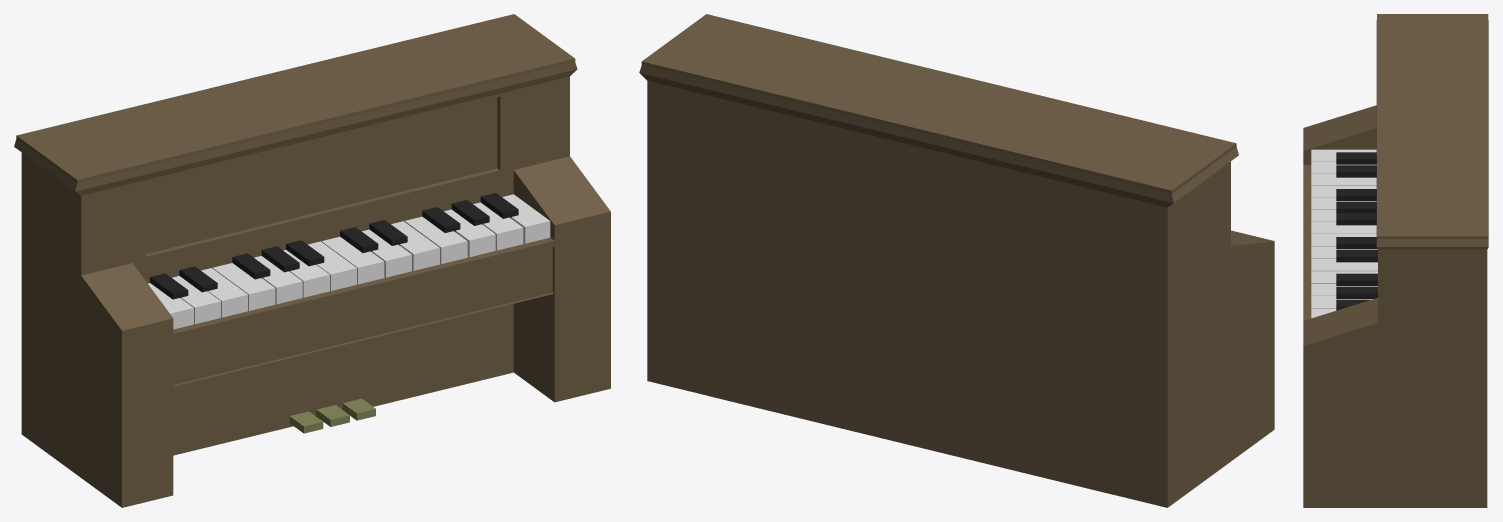
Rendered from Piano_Seperated.fbx.
The picture shows the model from 3 angles, left to right: view 1: azimuth 30°, elevation 25°; view 2: azimuth 150°, elevation 25°; view 3: azimuth 270°, elevation 25°; orthographic projection. The views are drawn at different scales.
Parts seen in each view (by area): view 1: Piano, Key18, Key22, Key31, Key24, Key17, Key27, Key14, Key25, Key26, Key15, Key23 (+3 smaller); view 2: Piano; view 3: Piano, Key24, Key14, Key17, Key30, Key32, Key29, Key33, Key11, Key19, Key20, Key34 (+12 smaller).
Boxes of the visible parts, box(x1,y1,x2,y2) form: Piano: box(14, 14, 610, 507); Key18: box(212, 263, 275, 310); Key22: box(321, 236, 384, 284); Key31: box(404, 216, 467, 263); Key24: box(391, 221, 439, 270); Key17: box(308, 241, 356, 290); Key27: box(502, 194, 550, 243); Key14: box(201, 268, 247, 317); Key25: box(444, 209, 495, 257); Key26: box(473, 202, 523, 250); Key15: box(254, 256, 302, 304); Key23: box(362, 229, 411, 277); Piano: box(639, 14, 1274, 507); Piano: box(1303, 14, 1488, 507); Key24: box(1311, 259, 1377, 271); Key14: box(1311, 173, 1376, 185); Key17: box(1311, 222, 1376, 233); Key30: box(1336, 273, 1377, 285); Key32: box(1336, 250, 1377, 262); Key29: box(1336, 286, 1377, 298); Key33: box(1336, 237, 1377, 249); Key11: box(1336, 152, 1376, 164); Key19: box(1336, 213, 1376, 225); Key20: box(1336, 189, 1376, 201); Key34: box(1336, 165, 1376, 177).
Bounding box in the file's own units: 6.42 × 3.66 × 2.25.
